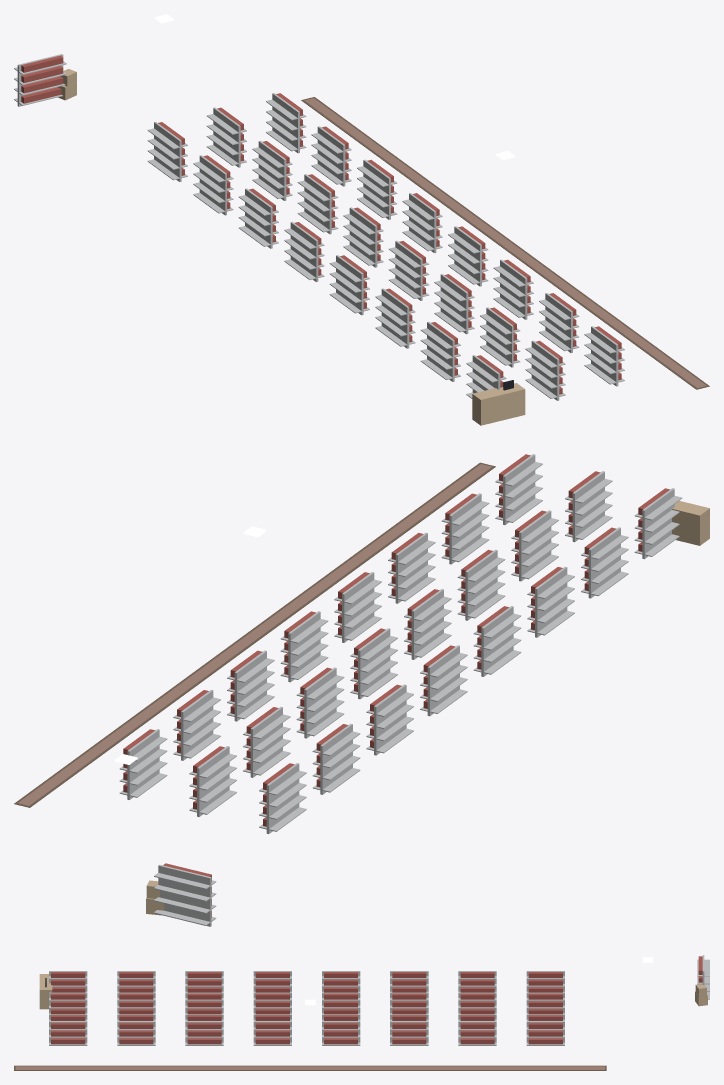
Rendered from fine-s0.glb.
3 views of the same model, one above another, from view 1: azimuth 30°, elevation 25°; view 2: azimuth 150°, elevation 25°; view 3: azimuth 270°, elevation 25° (orthographic). The views are drawn at different scales.
Parts seen in each view (by area): view 1: soft-s0, shelving.000, shop-counter.000, shelf.005, shelf.009, shelf.017, shelf.011, shelf.015, shelf.003, shelf.020, shelf.013, shelf.001 (+15 smaller); view 2: soft-s0, shelving.000, shelf.010, shelf.006, shelf.018, shelf.022, shelf.003, shelf.009, shelf.013, shelf.015, shelf.019, shelf.021 (+15 smaller); view 3: soft-s0, shelf.016, shelf.017, shelf.018, shelf.019, shelf.020, shelf.021, shelf.022, shelf.023, shelf.009, shelf.010, shelf.013 (+16 smaller).
Part boxes in pixels (x1,y1,x2,y2): soft-s0: (301,97,709,389); shelving.000: (14,54,66,106); shop-counter.000: (472,380,525,425); shelf.005: (375,288,415,348); shelf.009: (252,140,292,200); shelf.017: (311,126,351,186); shelf.011: (343,207,383,267); shelf.015: (525,340,565,400); shelf.003: (284,221,324,281); shelf.020: (448,226,488,286); shelf.013: (434,274,474,334); shelf.001: (193,155,233,215); soft-s0: (14,462,495,807); shelving.000: (154,863,216,926); shelf.010: (296,667,344,738); shelf.006: (581,527,628,598); shelf.018: (227,650,274,721); shelf.022: (441,493,489,564); shelf.003: (420,645,467,716); shelf.009: (243,707,290,777); shelf.013: (457,549,505,620); shelf.015: (565,471,612,542); shelf.019: (280,611,328,682); shelf.021: (388,532,435,603); soft-s0: (14,1065,606,1070); shelf.016: (526,1014,564,1045); shelf.017: (458,1014,496,1045); shelf.018: (390,1014,428,1045); shelf.019: (322,1014,360,1045); shelf.020: (253,1014,291,1045); shelf.021: (185,1014,223,1045); shelf.022: (117,1014,155,1045); shelf.023: (49,1014,87,1045); shelf.009: (458,992,496,1014); shelf.010: (390,992,428,1014); shelf.013: (185,992,223,1014).
Bounding box in the file's own units: 9.41 × 3.44 × 32.64.
